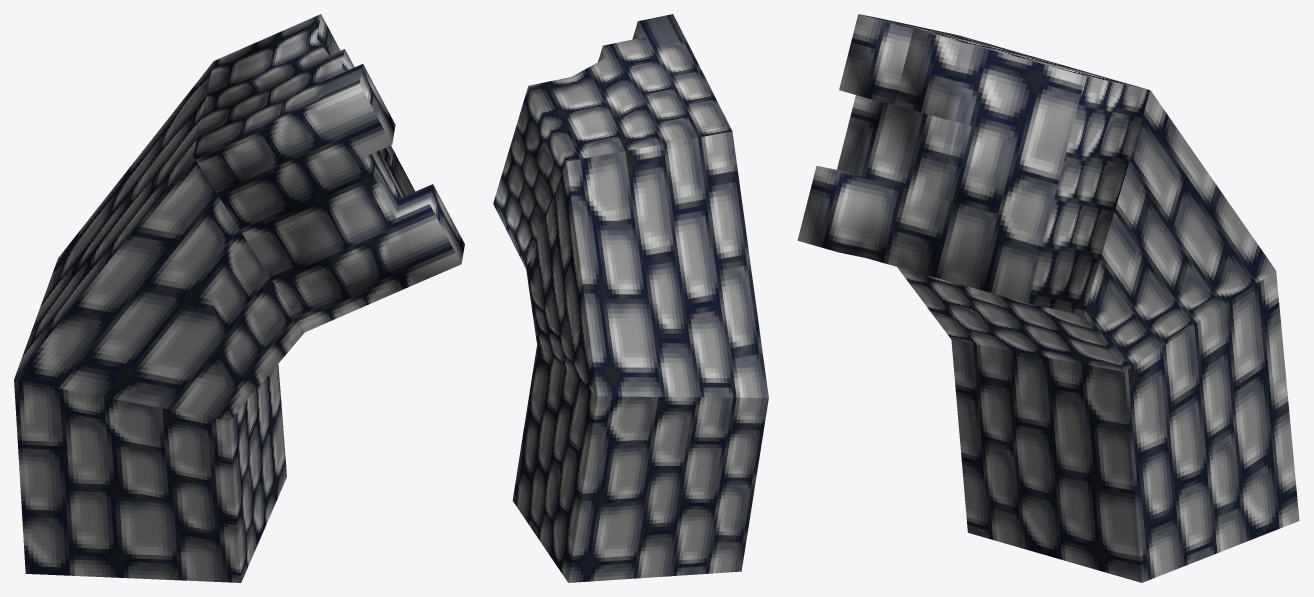
The model's file is Ruine2.glb.
The picture shows the model from 3 angles, left to right: view 1: azimuth 30°, elevation 25°; view 2: azimuth 150°, elevation 25°; view 3: azimuth 270°, elevation 25°; orthographic projection. The views are drawn at different scales.
Parts seen in each view (by area): view 1: Cube.001; view 2: Cube.001; view 3: Cube.001.
Part boxes in pixels (bbox=[...]): Cube.001: bbox=[14, 14, 464, 582]; Cube.001: bbox=[493, 14, 768, 582]; Cube.001: bbox=[797, 14, 1299, 582].
Size of the model in its own units: 3.86 by 5.31 by 4.28.
Materials: 1 (1 with a texture image).
